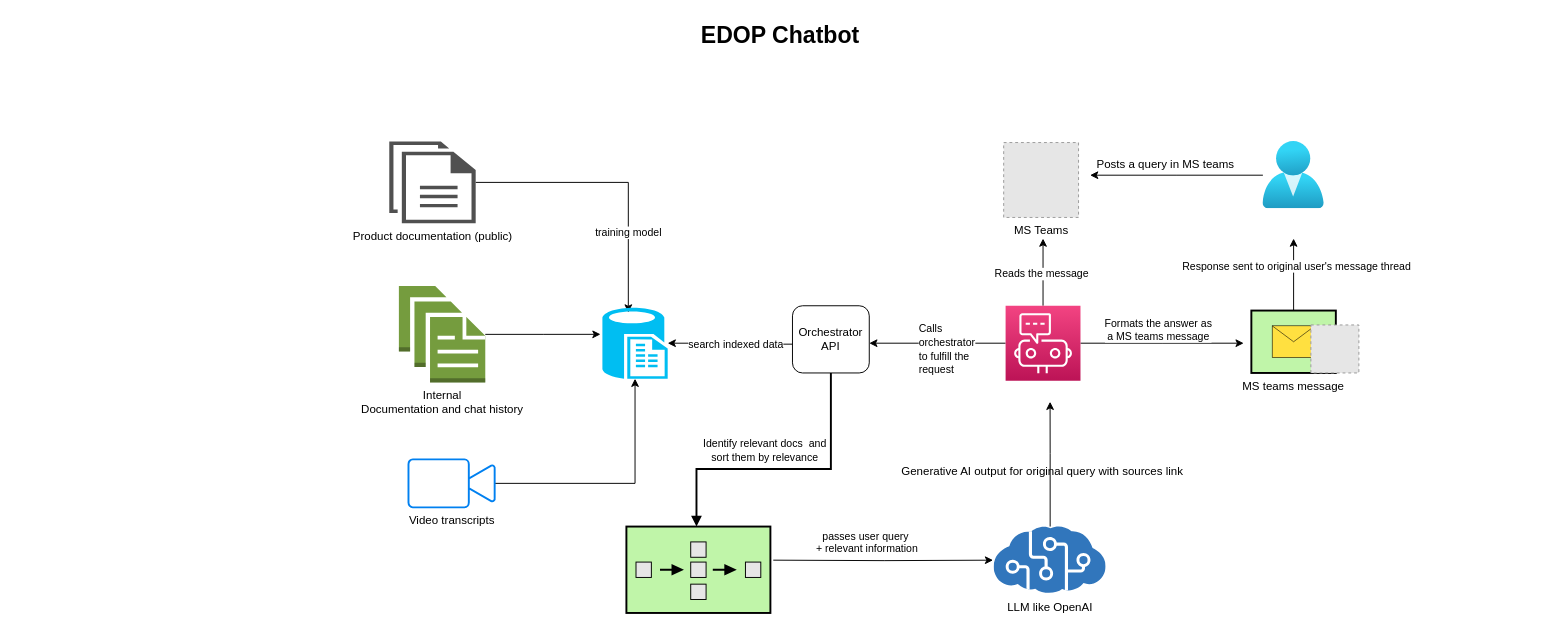
Image size: 1559x630. Some labels were removed from this diagram. Grey dashed boxes stand in for pictures. The shapes that lost their labels are listed below. From the top down, each one's centre as x and y in pixels, then its label:
point (1293, 174): User
point (634, 342): Index store
point (1042, 343): Chatbot
